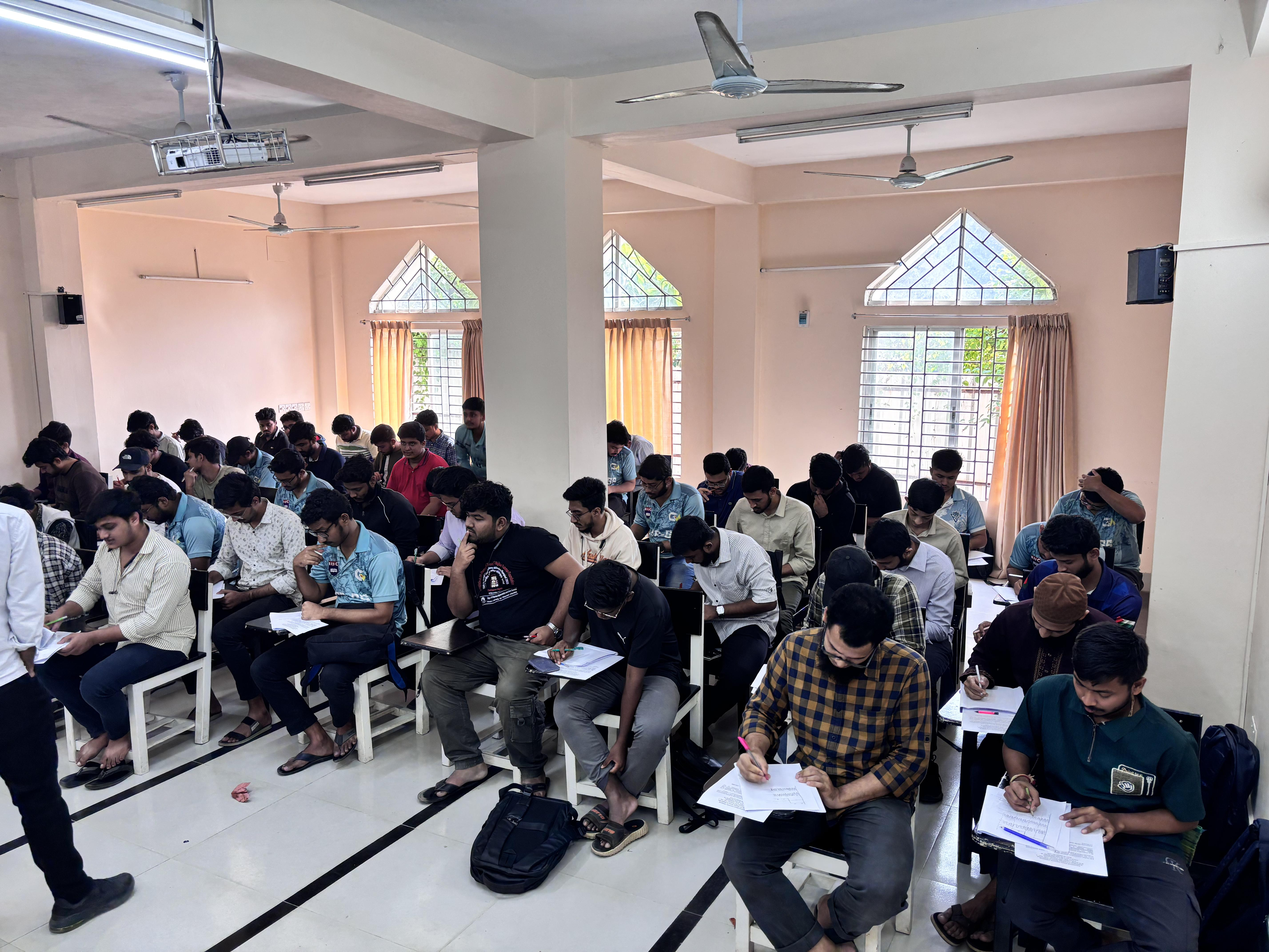copying: (439, 479, 549, 650), (177, 436, 239, 491), (108, 447, 158, 490), (247, 402, 289, 447)
hidden_communication: (603, 421, 644, 493)
invigilator: (0, 469, 141, 952)
no_cheating: (734, 589, 925, 843), (1004, 625, 1163, 893), (43, 487, 201, 719), (279, 492, 405, 667), (537, 560, 675, 714), (961, 571, 1095, 718), (195, 476, 293, 613), (667, 511, 775, 623), (724, 463, 821, 570), (1031, 512, 1128, 593), (19, 437, 106, 520), (860, 505, 935, 597), (1057, 459, 1140, 536), (411, 466, 474, 566), (786, 452, 852, 545), (629, 449, 695, 541), (558, 475, 628, 560), (325, 456, 401, 531), (889, 477, 962, 550), (389, 426, 446, 493), (267, 451, 323, 511), (452, 397, 498, 470), (832, 440, 883, 505), (221, 423, 270, 486), (280, 418, 337, 472), (694, 450, 735, 520), (927, 442, 969, 501), (325, 411, 371, 463), (364, 420, 401, 472)
